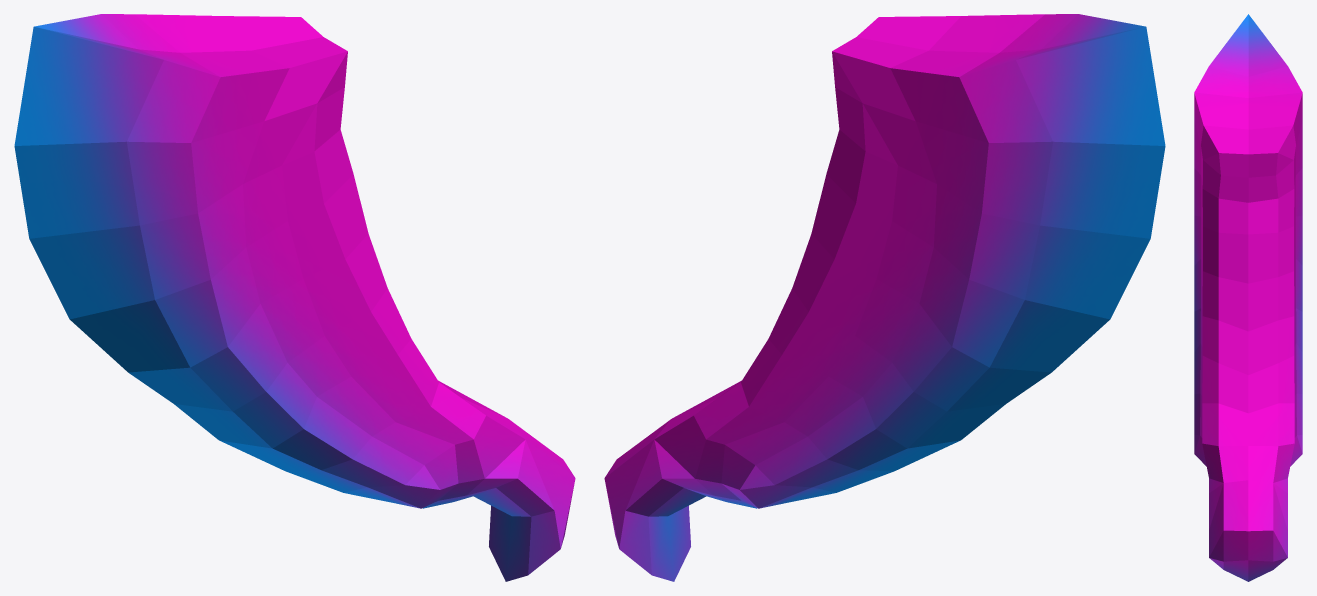
File: chicken_evil_cutter1.1.fbx
The picture shows the model from 3 angles, left to right: view 1: azimuth 30°, elevation 25°; view 2: azimuth 150°, elevation 25°; view 3: azimuth 270°, elevation 25°; orthographic projection. The views are drawn at different scales.
Parts seen in each view (by area): view 1: cutter; view 2: cutter; view 3: cutter.
Boxes of the visible parts, x1=… form: cutter: x1=14, y1=14, x2=575, y2=581; cutter: x1=604, y1=14, x2=1165, y2=581; cutter: x1=1194, y1=14, x2=1302, y2=581.
Bounding box in the file's own units: 1.63 × 1.9 × 0.4416.
Materials: 1 (1 with a texture image).
